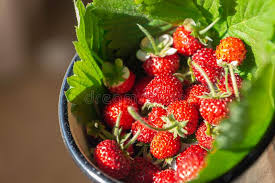ripe: (91, 138, 132, 181), (186, 47, 224, 87), (142, 72, 184, 108), (171, 143, 211, 179), (164, 97, 197, 138), (103, 97, 140, 133), (139, 47, 181, 76), (100, 59, 134, 94), (197, 93, 230, 127), (146, 129, 179, 162), (171, 23, 205, 54), (138, 162, 184, 182), (192, 121, 221, 152), (216, 69, 244, 100), (129, 114, 158, 143), (186, 89, 215, 107), (145, 110, 168, 132)
unripe: (215, 35, 248, 67)
